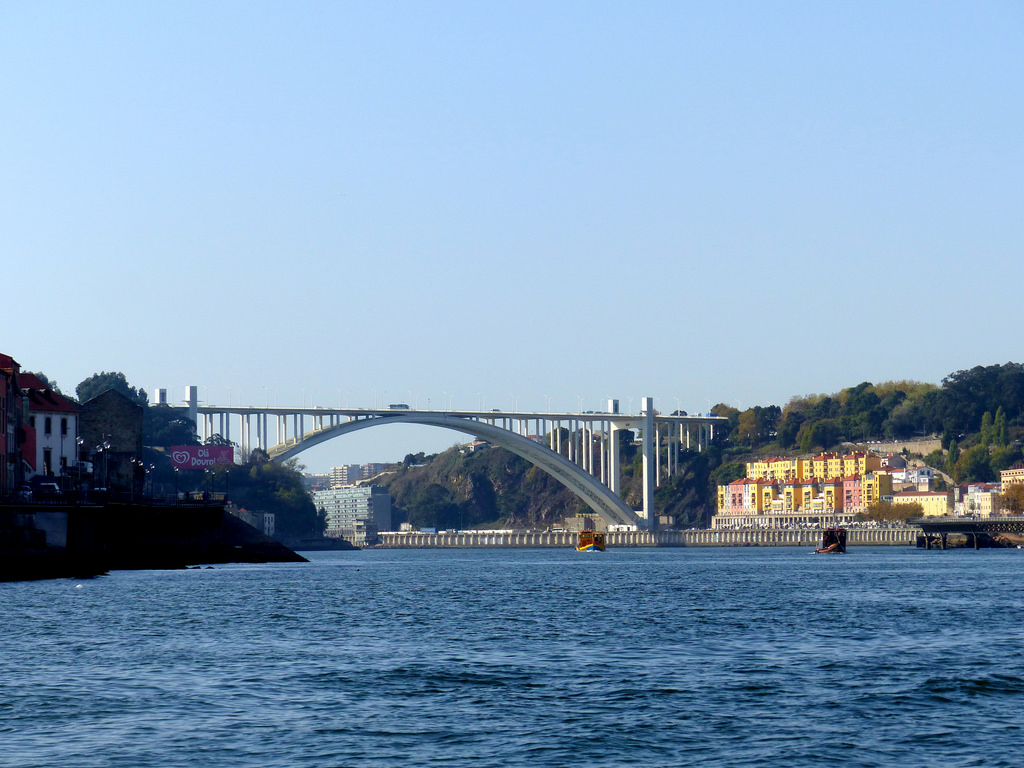arrabida: (147, 384, 729, 535)
